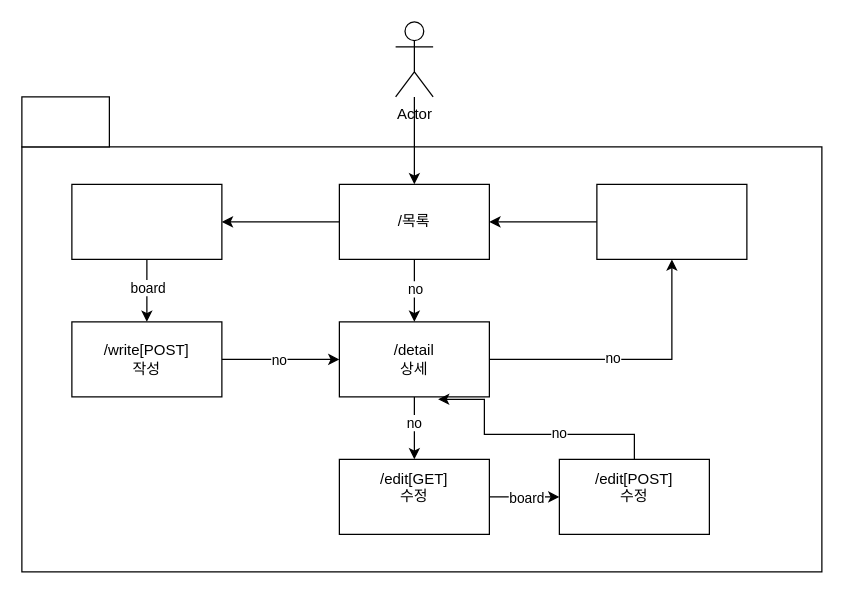
Image size: 844x594. Some labels were removed from this diagram. Each missing label, with the centre of its shape:
"/board" goes at pixel 65 121.
"/delete[GET] 삭제" goes at pixel 671 221.
"/write[GET] 작성" goes at pixel 146 221.
